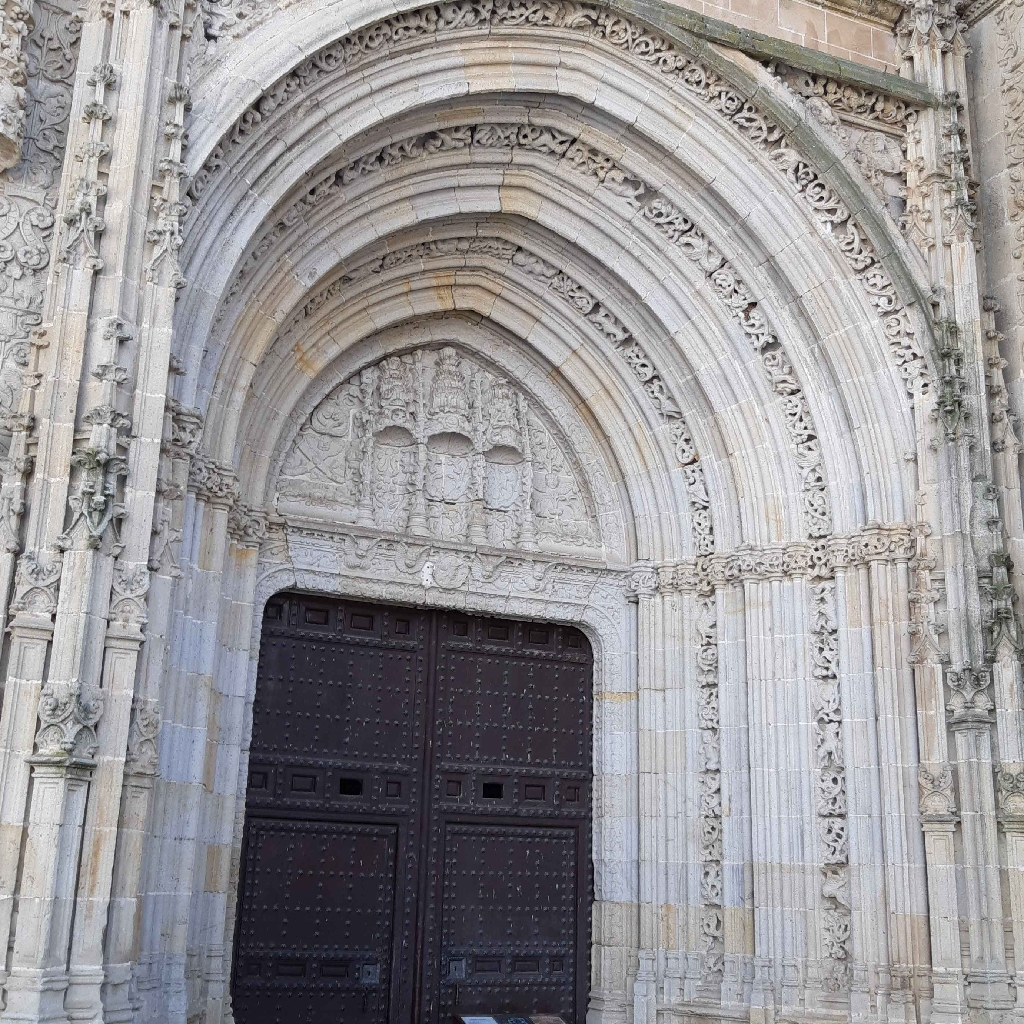arco-apuntado: (193, 93, 801, 559)
